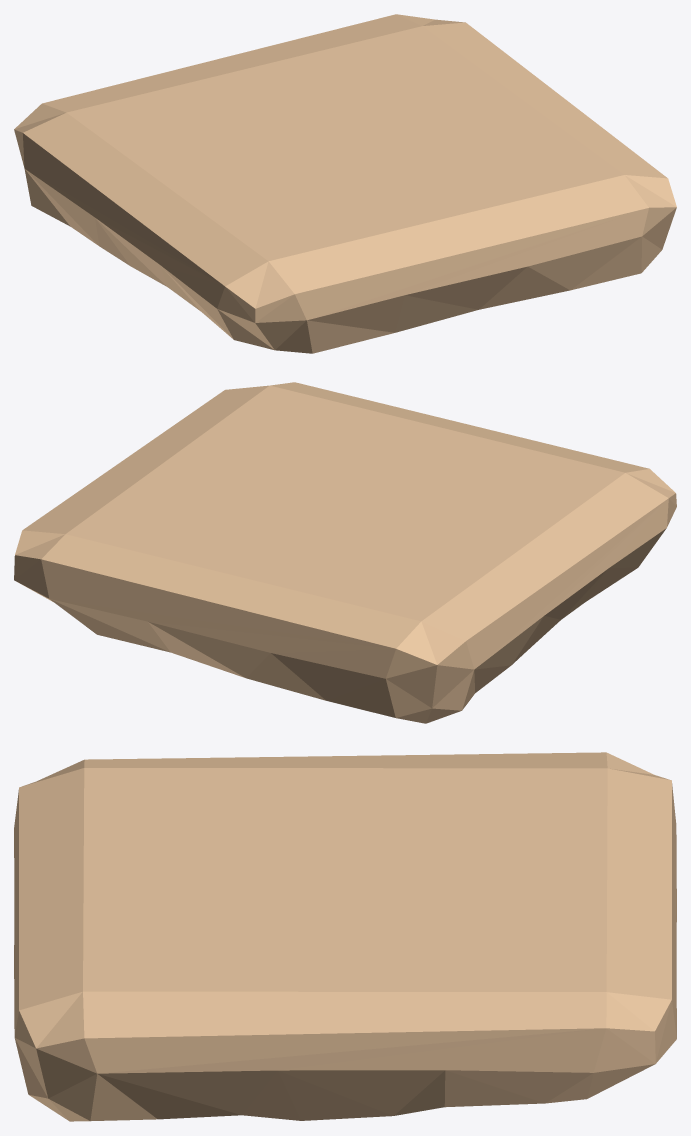
Rendered from bread_bottom.fbx.
The picture shows the model from 3 angles, top to bottom: view 1: azimuth 30°, elevation 25°; view 2: azimuth 150°, elevation 25°; view 3: azimuth 270°, elevation 25°; orthographic projection. The views are drawn at different scales.
Parts seen in each view (by area): view 1: bread_bottom; view 2: bread_bottom; view 3: bread_bottom.
Part boxes in pixels (x1,y1,x2,y2): bread_bottom: [14, 14, 676, 353]; bread_bottom: [14, 382, 676, 723]; bread_bottom: [14, 752, 676, 1121].
Bounding box in the file's own units: 1.36 × 0.2979 × 1.35.
